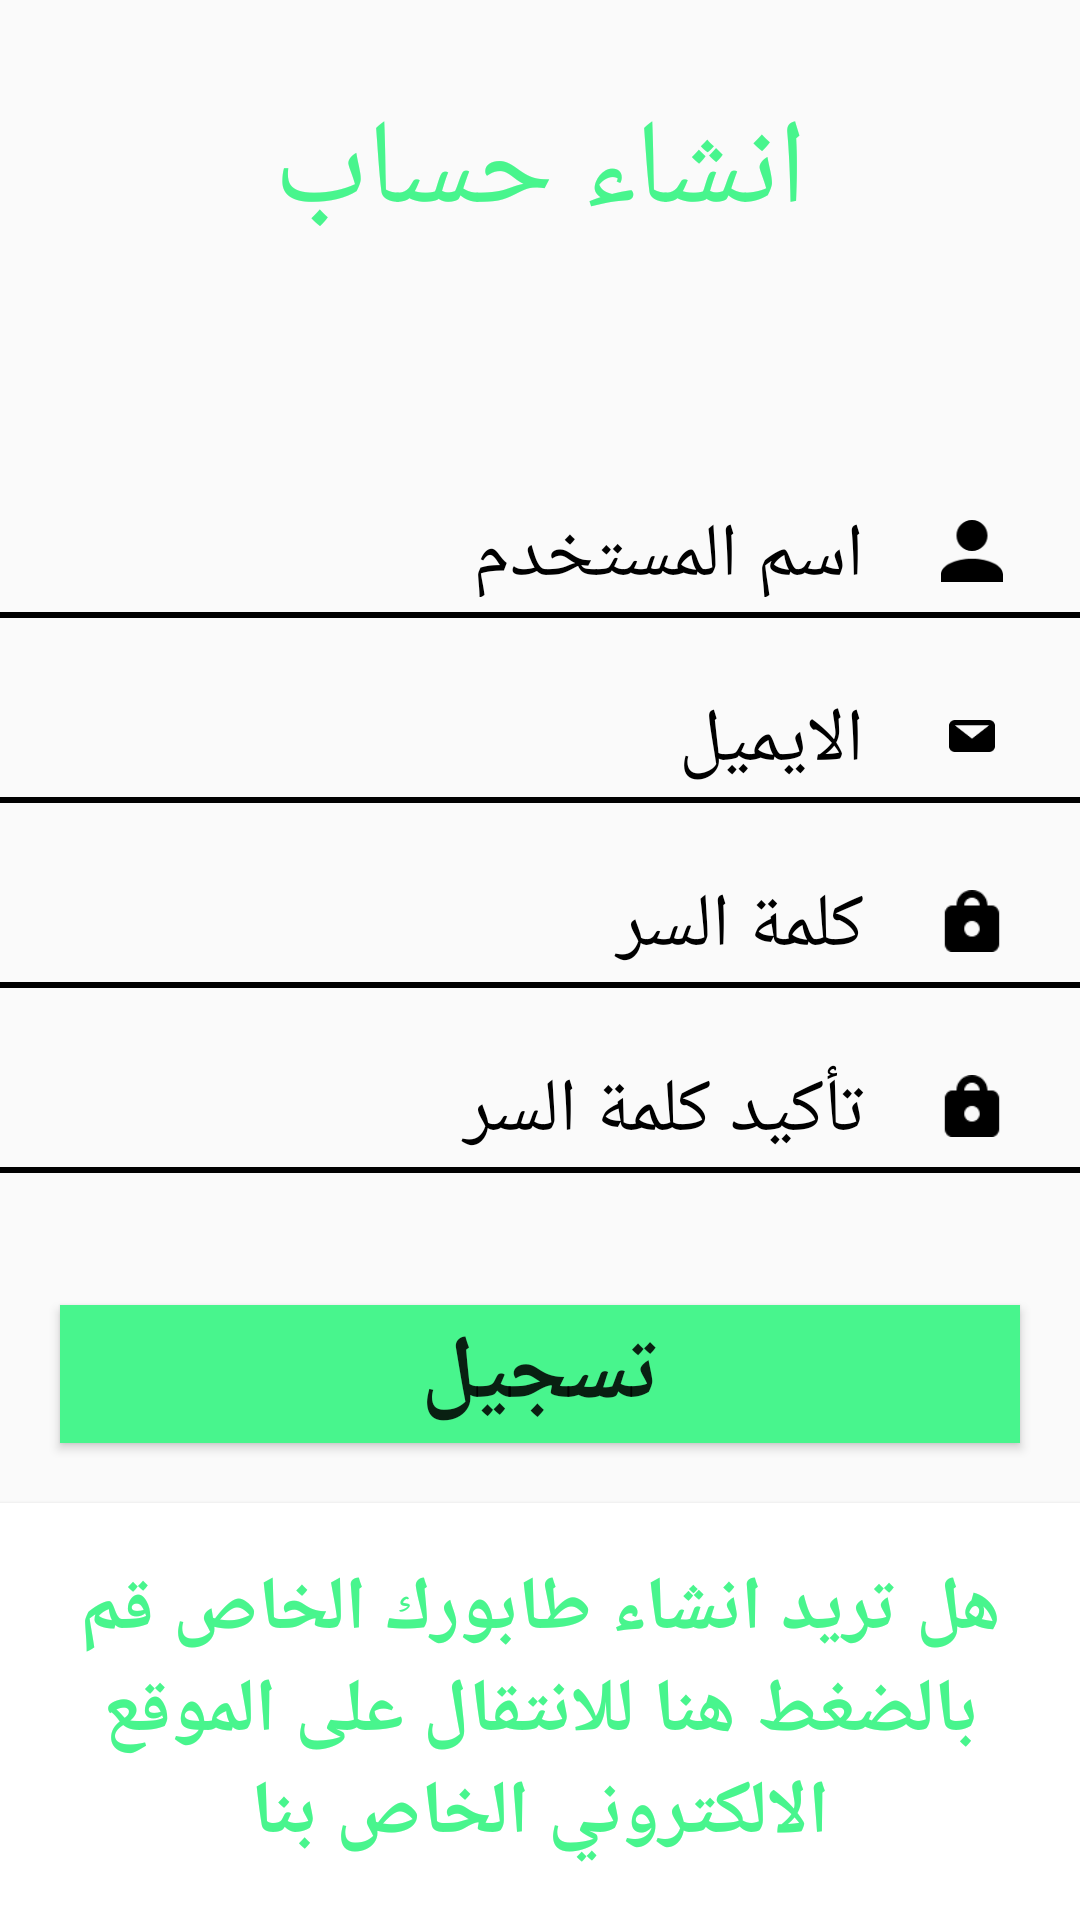

Icon bounding boxes for this 1080px x 1920px phone screenshot, format (x1, y1, x2, y2):
email pic: (949, 720, 995, 752)
password pic: (944, 890, 1000, 952), (944, 1075, 1000, 1137)
username pic: (941, 520, 1003, 582)
